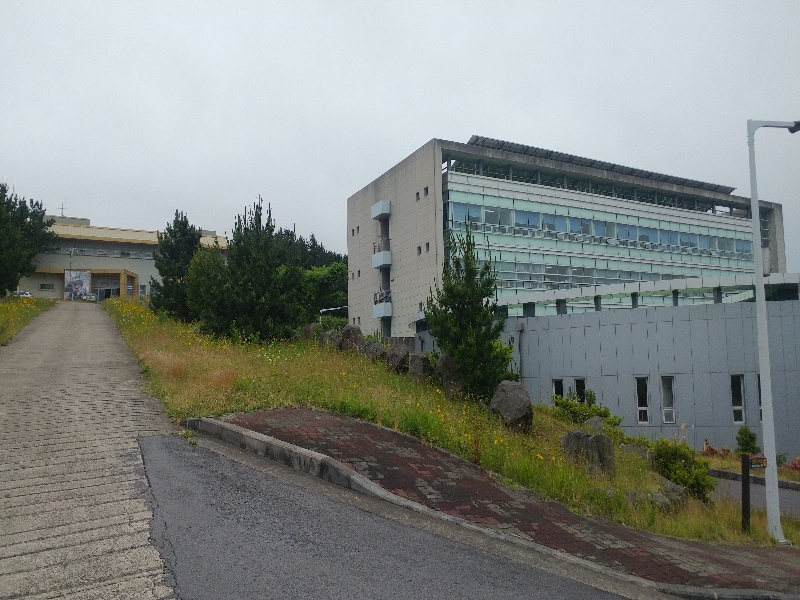College of Marine Science: (334, 139, 779, 341), (510, 161, 788, 438)
Military Education Unit: (17, 220, 227, 300), (51, 224, 139, 298)
